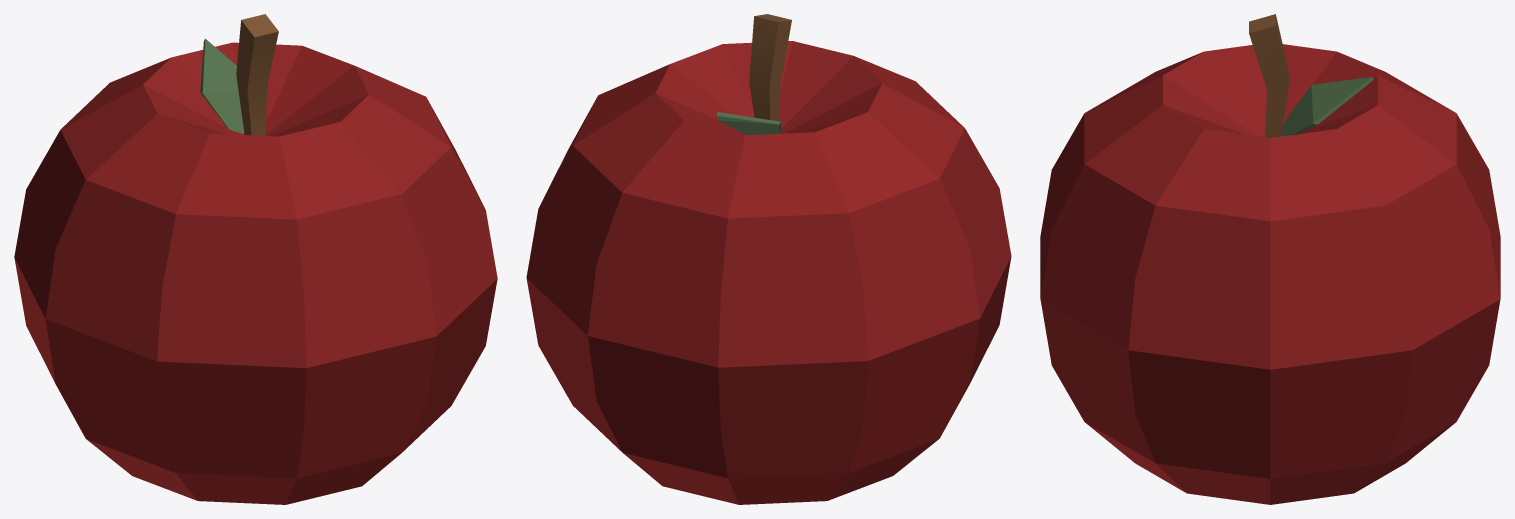
The model's file is Apple.fbx.
The picture shows the model from 3 angles, left to right: view 1: azimuth 30°, elevation 25°; view 2: azimuth 150°, elevation 25°; view 3: azimuth 270°, elevation 25°; orthographic projection.
Visible parts, largest first — view 1: pSphere1, pCube1, pPrism1; view 2: pSphere1, pCube1, pPrism1; view 3: pSphere1, pCube1, pPrism1.
Part boxes in pixels (x1=…): pSphere1: x1=14, y1=42, x2=497, y2=504; pCube1: x1=236, y1=14, x2=278, y2=135; pPrism1: x1=200, y1=38, x2=244, y2=133; pSphere1: x1=526, y1=41, x2=1011, y2=504; pCube1: x1=749, y1=14, x2=791, y2=121; pPrism1: x1=717, y1=112, x2=781, y2=135; pSphere1: x1=1040, y1=44, x2=1500, y2=504; pCube1: x1=1249, y1=14, x2=1289, y2=137; pPrism1: x1=1280, y1=77, x2=1373, y2=136.
Size of the model in its own units: 2 by 1.98 by 1.9.
